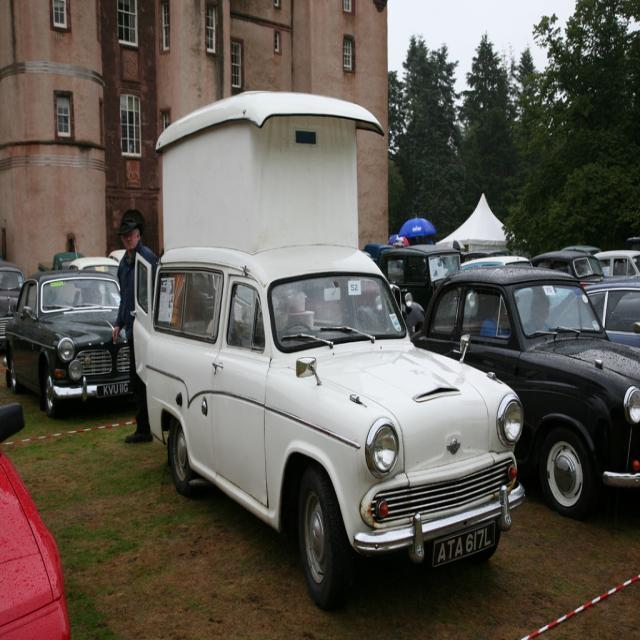car: (136, 241, 526, 605)
